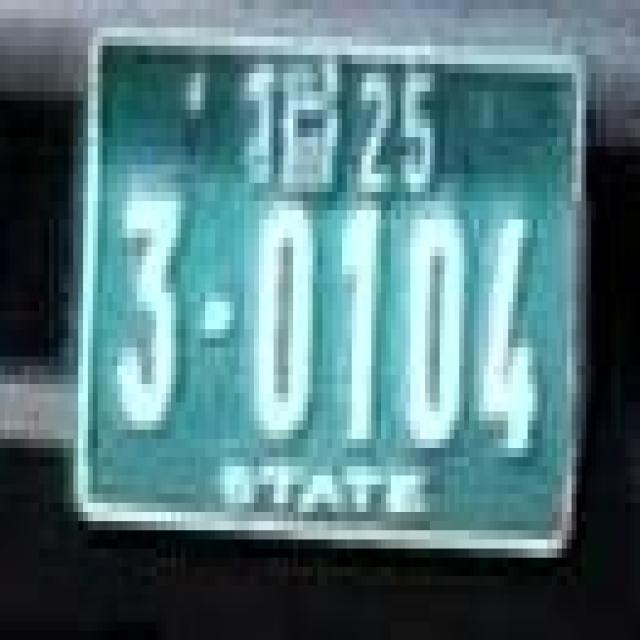State: (244, 55, 343, 195)
